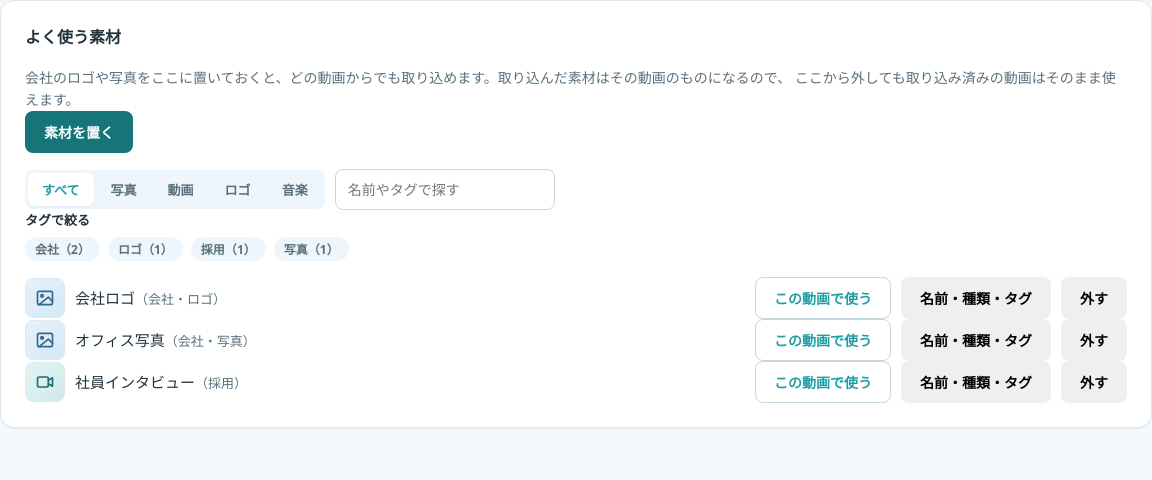
Test: AssetLibraryPanel › 「この動画で使う」でコピーし、どこに増えたかまで知らせる
The image size is (1152, 480).
expect the text "会社ロゴ" is shown: met, box [75,288,135,308]
What coordinates should you click on to do the following:
click the button "この動画で使う" in the row of "会社ロゴ"
I would click on:
 (823, 298)
Its box is [755,277,891,319].
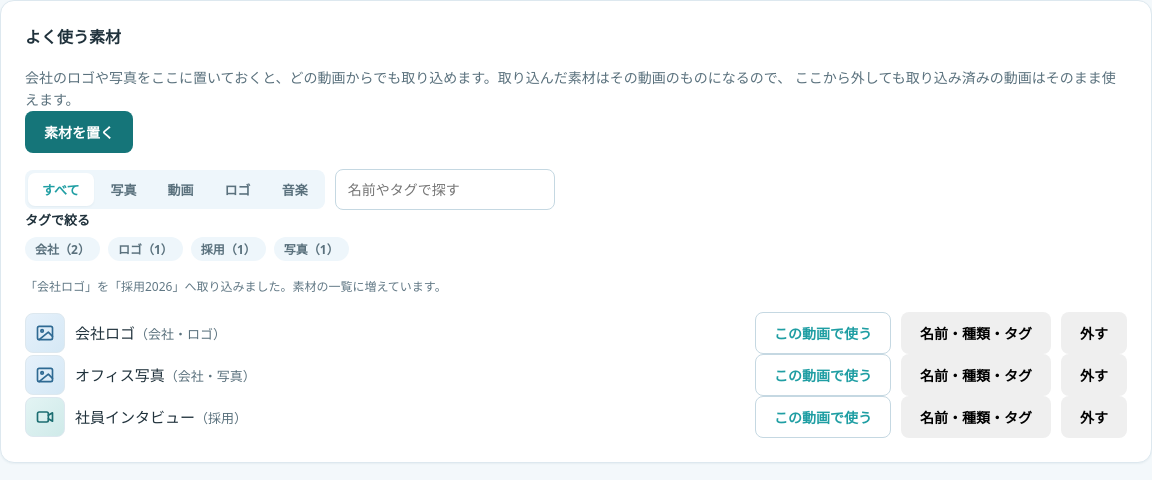
expect the text "「会社ロゴ」を「採用2026」へ取り込みました。素材の一覧に増えています。" is shown: met, box [25,278,447,295]
